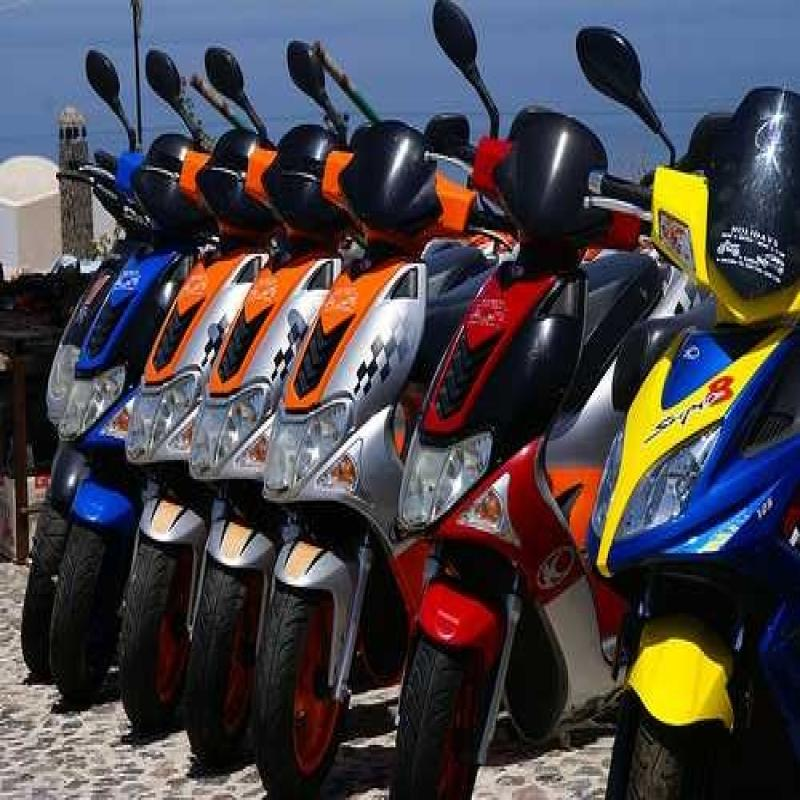bike: (444, 78, 639, 744), (617, 89, 800, 795), (53, 106, 212, 678), (311, 80, 451, 672), (151, 103, 285, 648), (261, 100, 345, 418)
